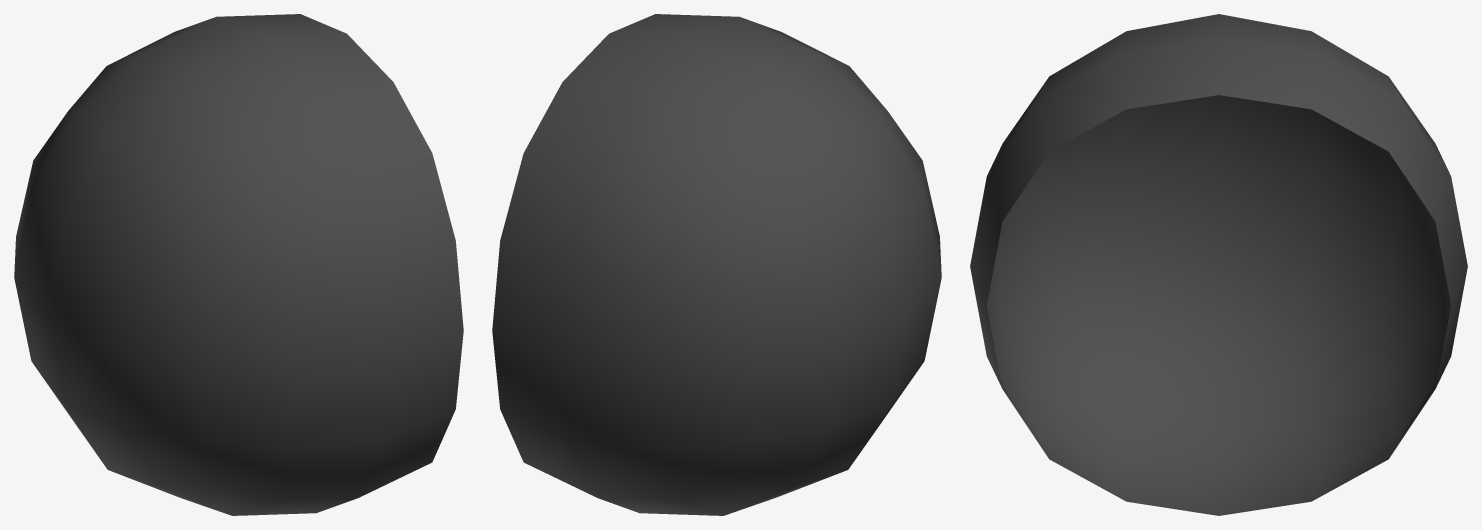
File: BotonLinterna.fbx
The picture shows the model from 3 angles, left to right: view 1: azimuth 30°, elevation 25°; view 2: azimuth 150°, elevation 25°; view 3: azimuth 270°, elevation 25°; orthographic projection.
Visible parts, largest first — view 1: BotonLinterna; view 2: BotonLinterna; view 3: BotonLinterna.
Part boxes in pixels (x1,y1,x2,y2): BotonLinterna: [14, 14, 463, 515]; BotonLinterna: [492, 14, 941, 515]; BotonLinterna: [970, 14, 1467, 515].
Size of the model in its own units: 0.0129 by 0.0188 by 0.0188.
